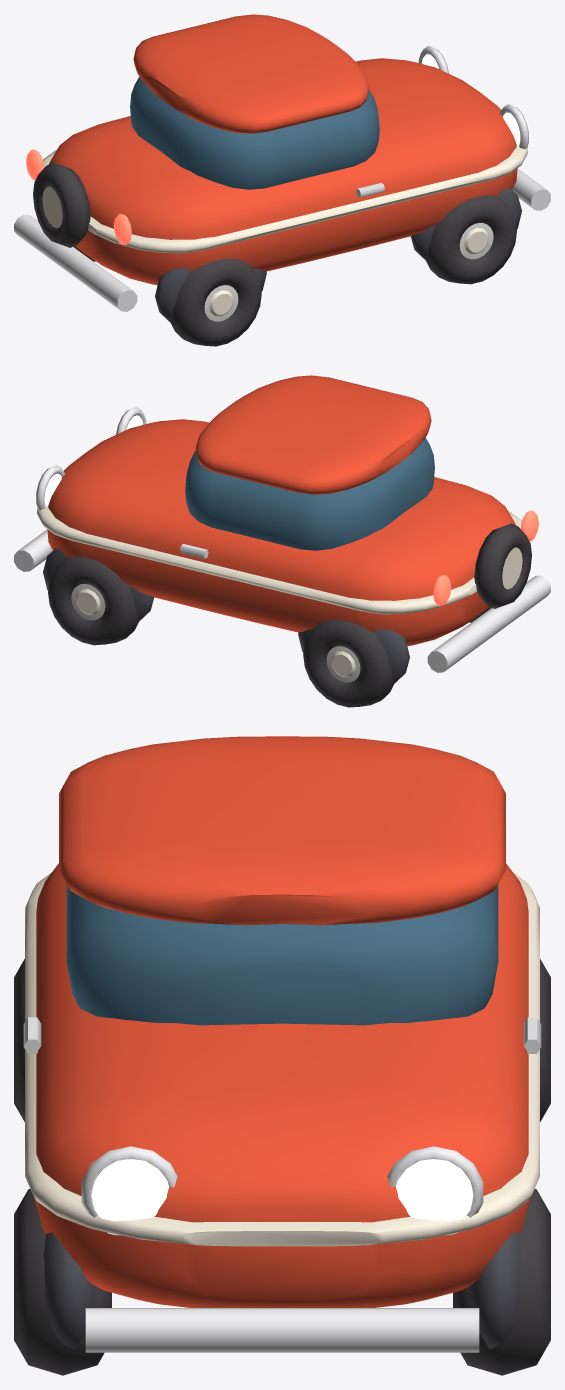
Rendered from car_a.glb.
The picture shows the model from 3 angles, top to bottom: view 1: azimuth 30°, elevation 25°; view 2: azimuth 150°, elevation 25°; view 3: azimuth 270°, elevation 25°; orthographic projection. The views are drawn at different scales.
Visible parts, largest first — view 1: car_a, wheel_3, wheel_1; view 2: car_a, wheel_2, wheel_0; view 3: car_a, wheel_0, wheel_1, wheel_2, wheel_3.
Boxes of the visible parts, <box> form: car_a: <box>14,14,550,322</box>; wheel_3: <box>170,258,261,346</box>; wheel_1: <box>425,195,516,284</box>; car_a: <box>14,375,550,683</box>; wheel_2: <box>303,619,394,707</box>; wheel_0: <box>48,556,139,645</box>; car_a: <box>23,736,541,1352</box>; wheel_0: <box>453,1189,550,1375</box>; wheel_1: <box>14,1189,111,1375</box>; wheel_2: <box>540,959,550,1121</box>; wheel_3: <box>14,959,24,1121</box>.
Bounding box in the file's own units: 1.3 × 0.6087 × 0.7093.
